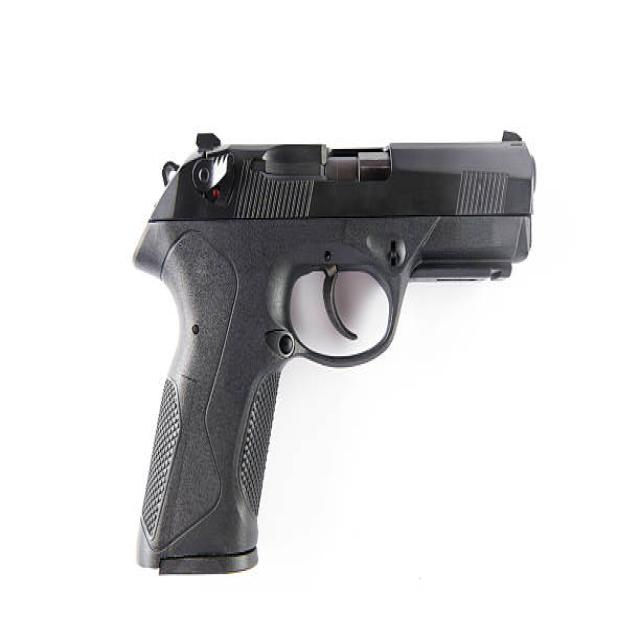pistol: (124, 122, 543, 586)
